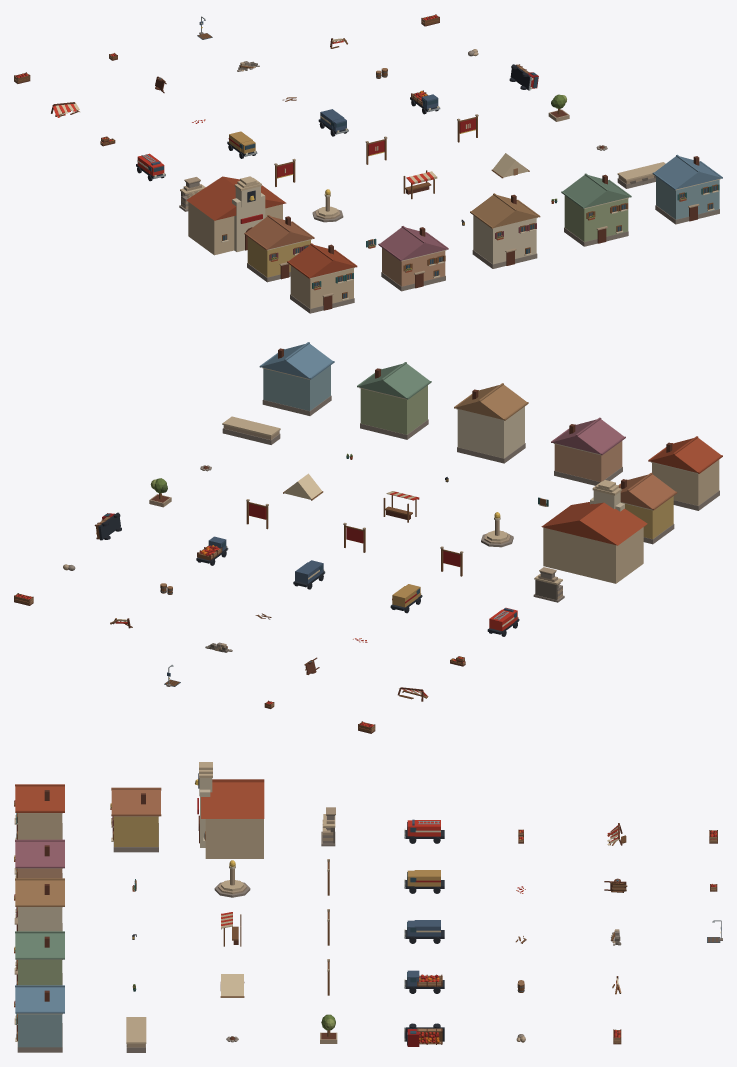
Rendered from Stage2_TomatinaVillage.glb.
3 renders of one model, top to bottom at view 1: azimuth 30°, elevation 25°; view 2: azimuth 150°, elevation 25°; view 3: azimuth 270°, elevation 25°, orthographic. The views are drawn at different scales.
Visible parts, largest first — view 1: Church, HouseLime, HouseSage, HouseCream, HouseBlue, HousePeach, HouseHoney, LowWall, SauceVan, WreckBody, FireEngine, MarketStall (+3 smaller); view 2: Church, HouseLime, HouseSage, HouseBlue, HousePeach, HouseCream, HouseHoney, LowWall, RefugeFireplace, FireEngine, WreckBody, SauceVan; view 3: Church, HouseBlue, HouseHoney, HouseCream, HouseSage, HouseLime, HousePeach, OverturnedTomatoTruck, FireEngine, SauceVan, WreckBody, LowWall (+4 smaller).
Part boxes in pixels (x1,y1,x2,y2): Church: [186, 176, 286, 255]; HouseLime: [470, 193, 540, 268]; HouseSage: [561, 173, 631, 246]; HouseCream: [287, 243, 357, 313]; HouseBlue: [652, 154, 722, 224]; HousePeach: [378, 226, 448, 291]; HouseHoney: [244, 215, 314, 282]; LowWall: [617, 162, 665, 188]; SauceVan: [227, 131, 257, 158]; WreckBody: [318, 109, 348, 136]; FireEngine: [136, 153, 165, 181]; MarketStall: [403, 170, 437, 199]; Church: [541, 480, 647, 583]; HouseLime: [454, 383, 528, 463]; HouseSage: [357, 362, 431, 439]; HouseBlue: [259, 342, 334, 415]; HousePeach: [551, 417, 625, 485]; HouseCream: [648, 436, 722, 510]; HouseHoney: [618, 472, 677, 544]; LowWall: [222, 416, 280, 444]; RefugeFireplace: [533, 567, 564, 602]; FireEngine: [487, 607, 519, 636]; WreckBody: [293, 560, 325, 589]; SauceVan: [390, 584, 422, 613]; Church: [195, 762, 264, 858]; HouseBlue: [14, 985, 64, 1052]; HouseHoney: [110, 787, 161, 852]; HouseCream: [14, 784, 64, 839]; HouseSage: [14, 931, 64, 985]; HouseLime: [14, 878, 64, 931]; HousePeach: [14, 839, 64, 878]; OverturnedTomatoTruck: [404, 1023, 444, 1046]; FireEngine: [404, 819, 444, 843]; SauceVan: [404, 870, 444, 893]; WreckBody: [404, 920, 444, 943]; LowWall: [126, 1017, 146, 1052].
Size of the model in its own units: 74.54 by 11.35 by 95.79.
